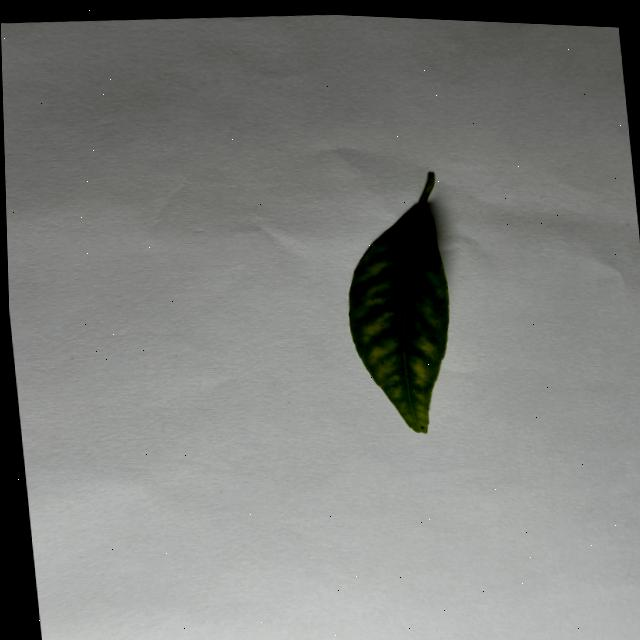greening: (347, 171, 447, 431)
